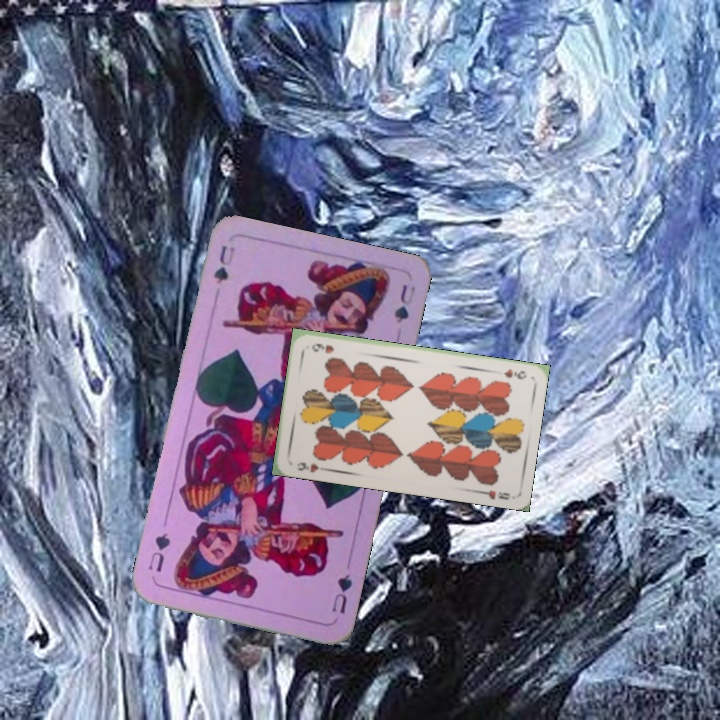GU: (327, 570, 355, 616), (209, 241, 237, 287)
H9: (293, 458, 328, 475), (500, 365, 529, 382)
